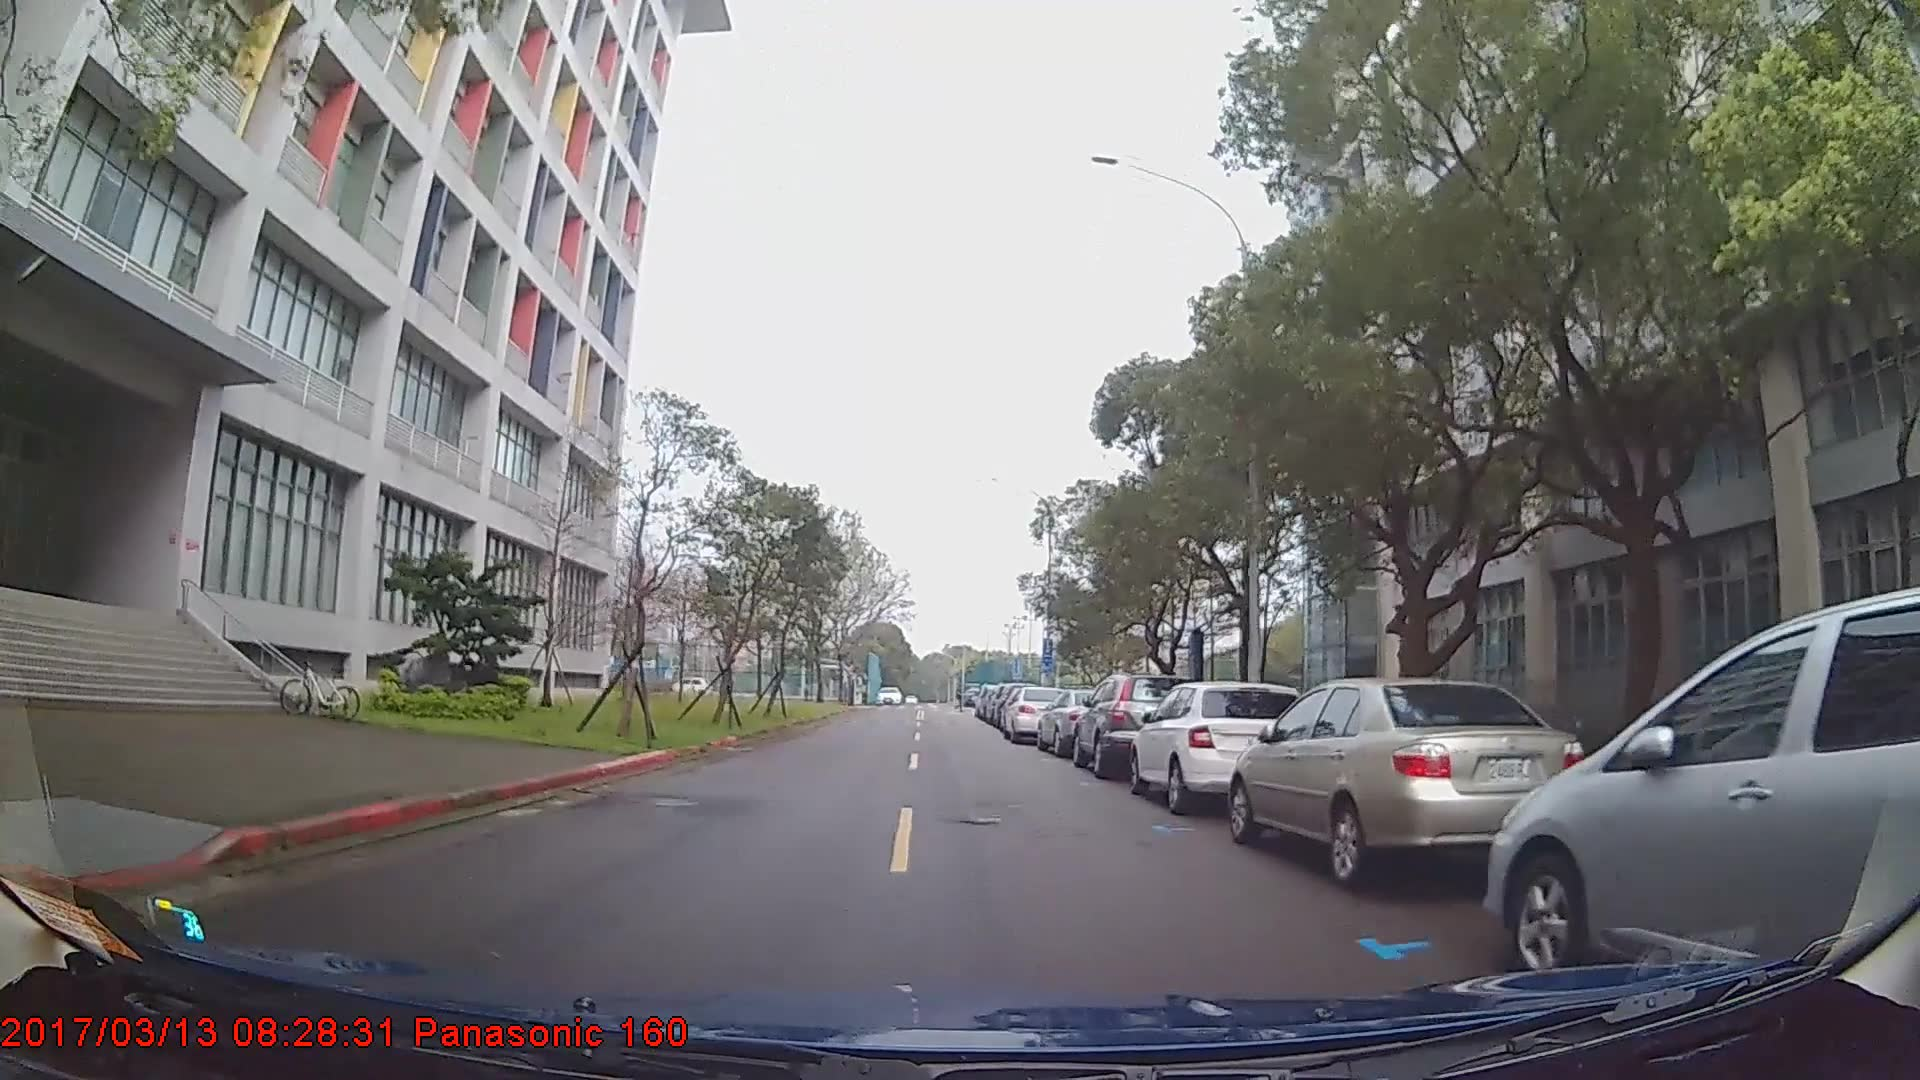vehicle: (1484, 582, 1920, 1006), (1229, 674, 1582, 887), (1129, 680, 1307, 814), (1069, 674, 1197, 779), (1034, 686, 1120, 756), (1000, 684, 1068, 742)
